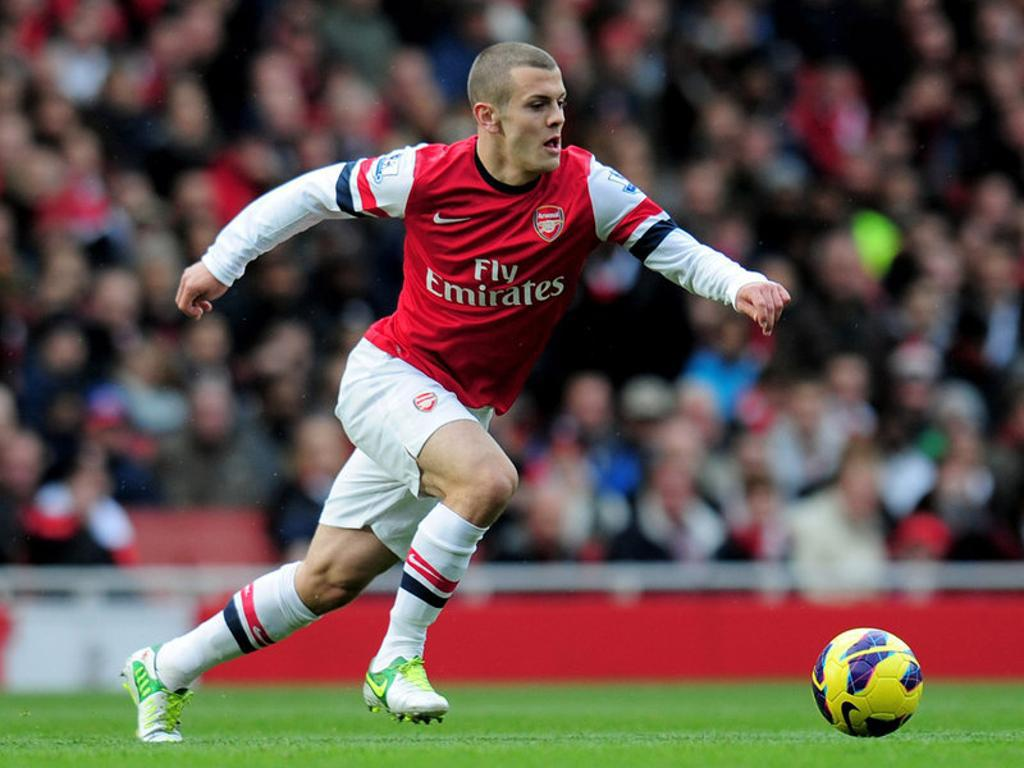face: (505, 69, 565, 171)
